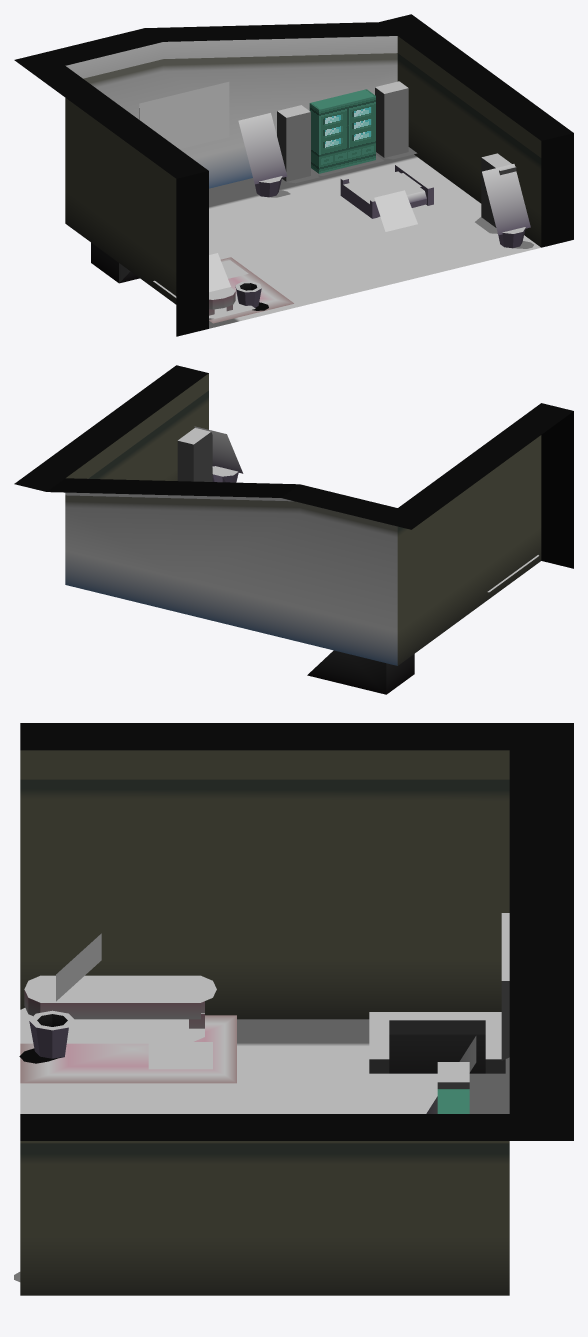
File: nuvema_house_2_2f.obj
The picture shows the model from 3 angles, top to bottom: view 1: azimuth 30°, elevation 25°; view 2: azimuth 150°, elevation 25°; view 3: azimuth 270°, elevation 25°; orthographic projection. The views are drawn at different scales.
Bounding box in the file's own units: 253 × 120 × 181.
